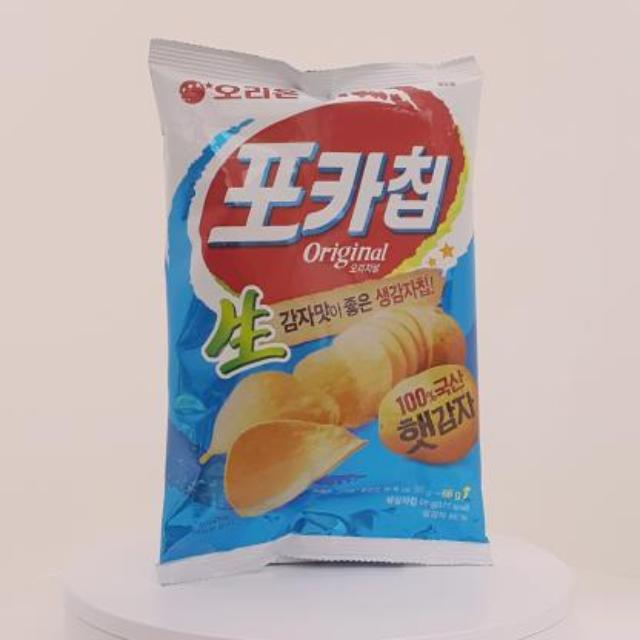snack_bag: (135, 25, 522, 611)
